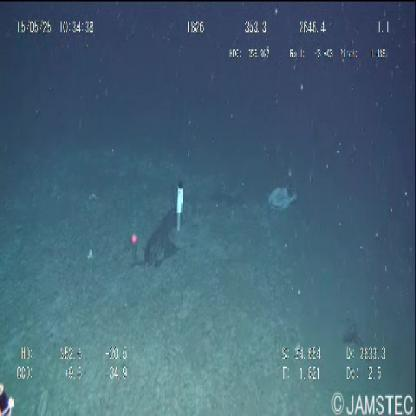Rác: (268, 188, 298, 211)
